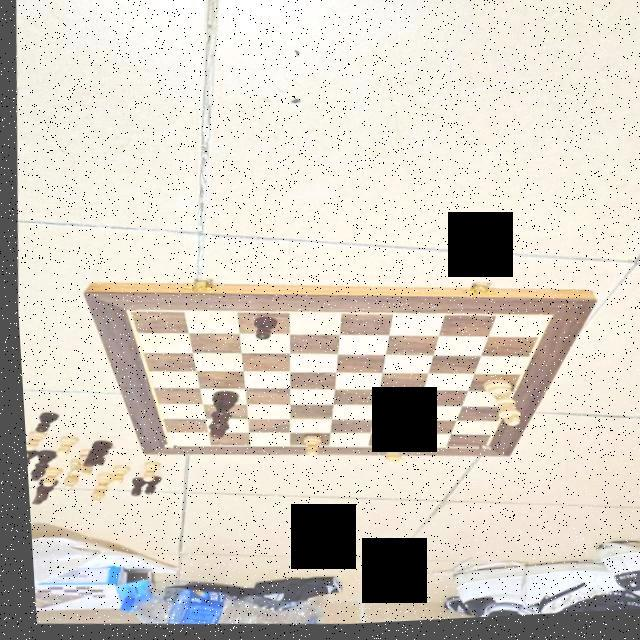chess-table-corners: (536, 316, 551, 326), (118, 306, 132, 314), (474, 448, 486, 455), (159, 443, 171, 448)
